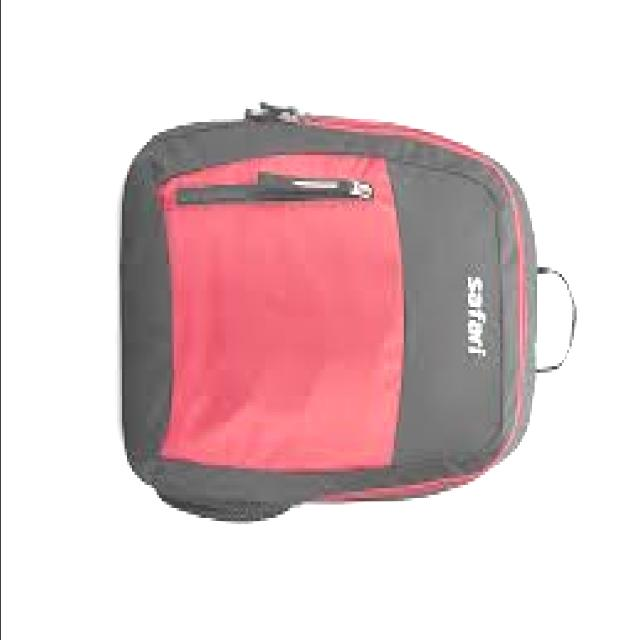backpack: (122, 100, 579, 522)
